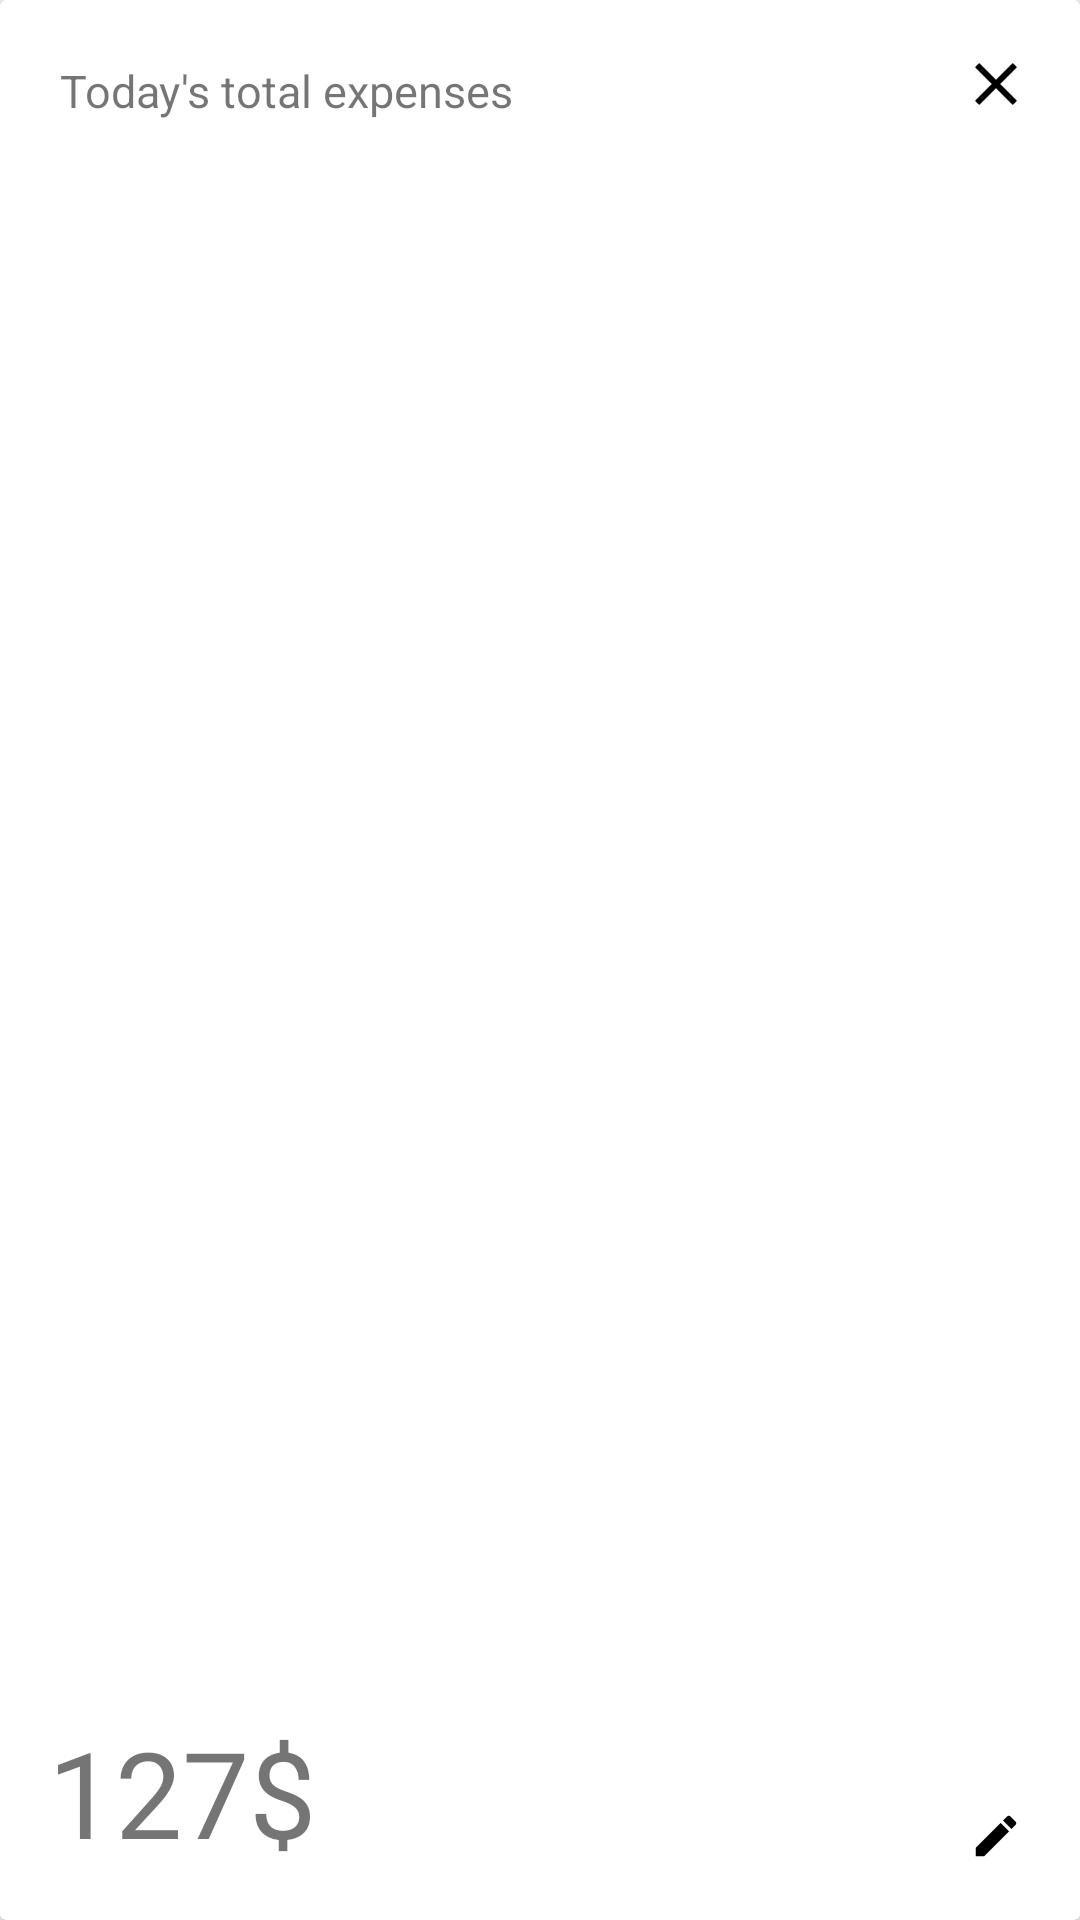

Point at icon controls on the screen. Image size 1080×1920, points as (x=x, y=y).
Edit button: (x=996, y=1836)
